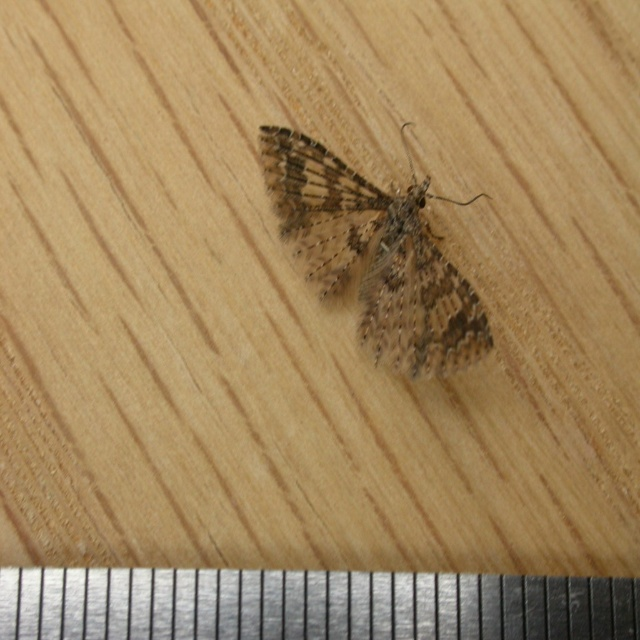Butterfly: (252, 71, 513, 391)
